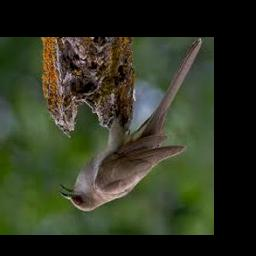Cuckoo: (59, 39, 202, 211)
